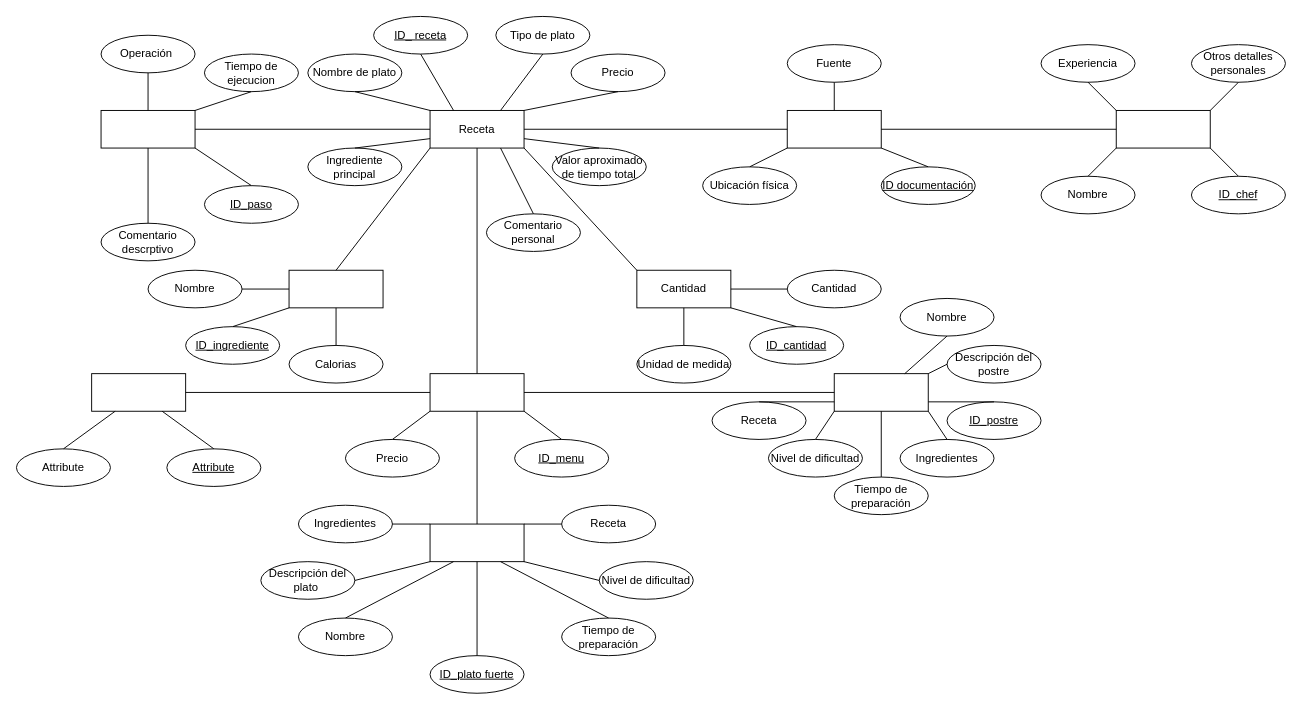
Some shapes in this 1302 by 710 pixel diagram are drawn without their labels. The shapes that lost their labels are listed below. From the top down, each one's centre as x and y in pixels, then its label:
At point (147, 129): "Paso".
At point (833, 129): "Documentación".
At point (1162, 129): "Chef".
At point (335, 288): "Ingrediente".
At point (138, 392): "Carta restaurante".
At point (476, 392): "Menu".
At point (880, 392): "Postre".
At point (476, 542): "Plato fuerte".
